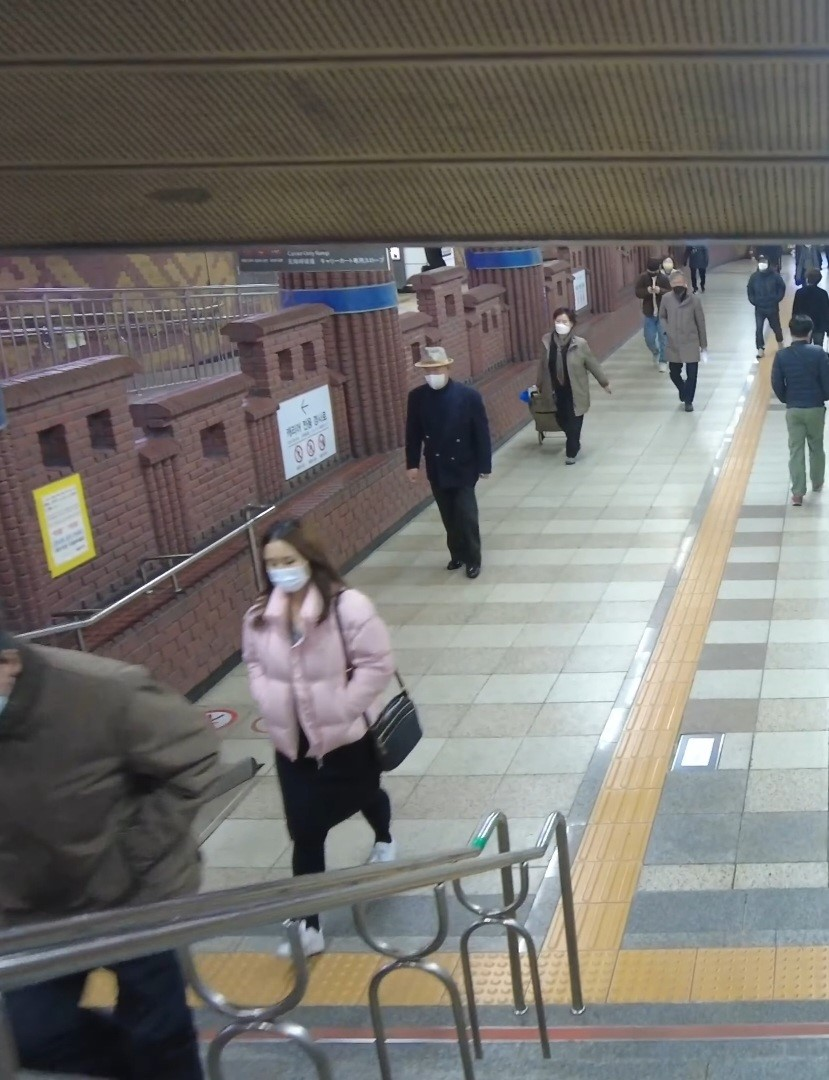guideBlock: (553, 900, 619, 935), (583, 825, 645, 862), (570, 863, 637, 896), (602, 784, 650, 825), (629, 738, 674, 778), (615, 758, 661, 788)
warningBlock: (545, 944, 614, 1003), (699, 951, 775, 1003), (617, 955, 692, 1004), (465, 955, 543, 1002), (788, 948, 829, 1011)
